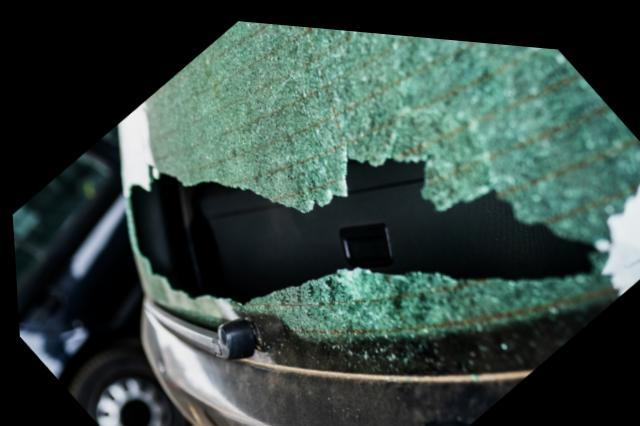glass shatter: (116, 17, 640, 369)
